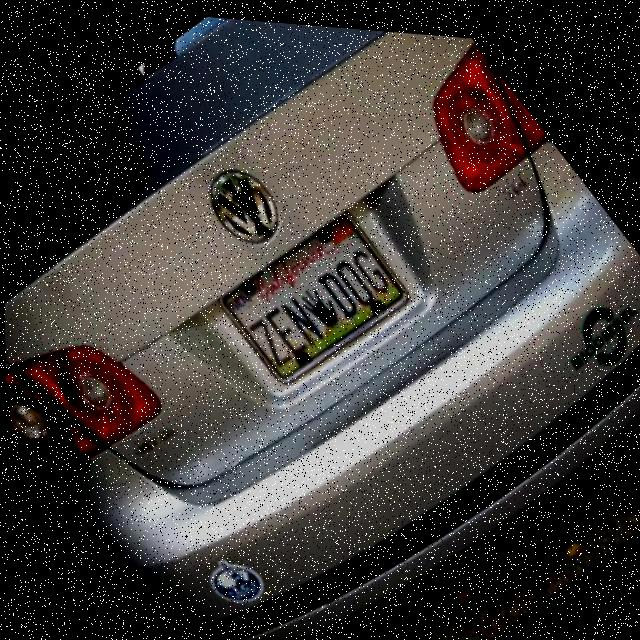license_plate: (214, 190, 416, 397)
